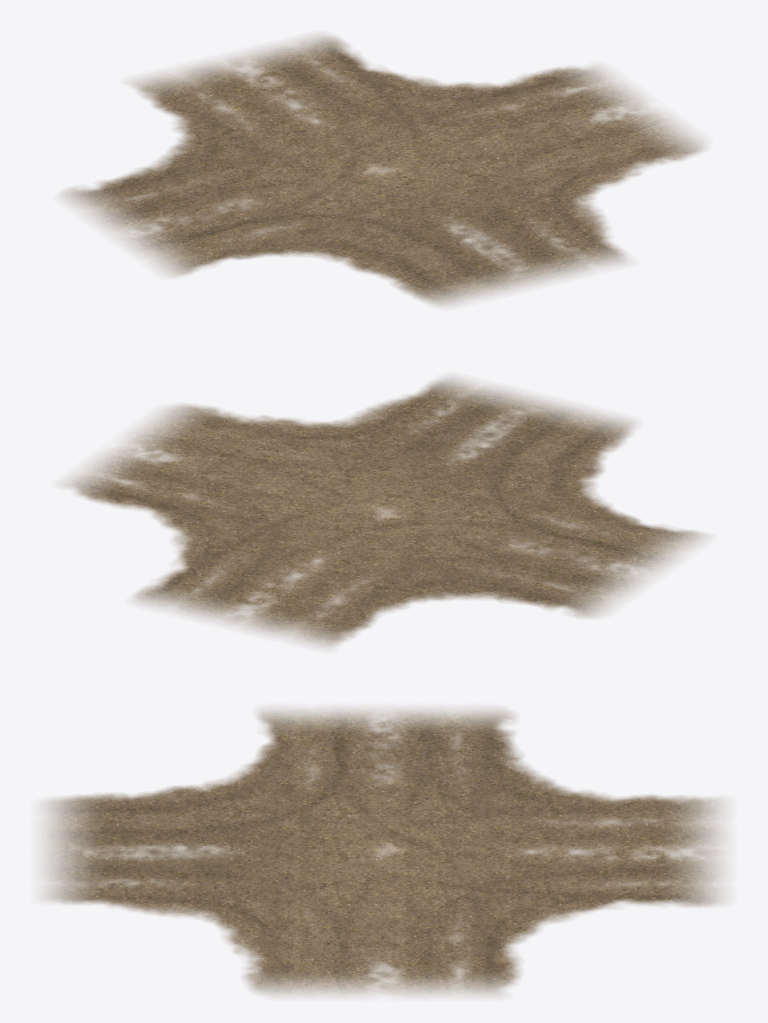
Rendered from road_cross_street_street.glb.
3 views of the same model, one above another, from view 1: azimuth 30°, elevation 25°; view 2: azimuth 150°, elevation 25°; view 3: azimuth 270°, elevation 25° (orthographic). The views are drawn at different scales.
Parts seen in each view (by area): view 1: road_cross_street_street; view 2: road_cross_street_street; view 3: road_cross_street_street.
Boxes of the visible parts, left/top/right/bottom form: road_cross_street_street: left=61, top=34, right=705, bottom=306; road_cross_street_street: left=62, top=377, right=707, bottom=648; road_cross_street_street: left=43, top=708, right=724, bottom=996.
Bounding box in the file's own units: 17.5 × 0 × 17.5.
Materials: 1 (1 with a texture image).
